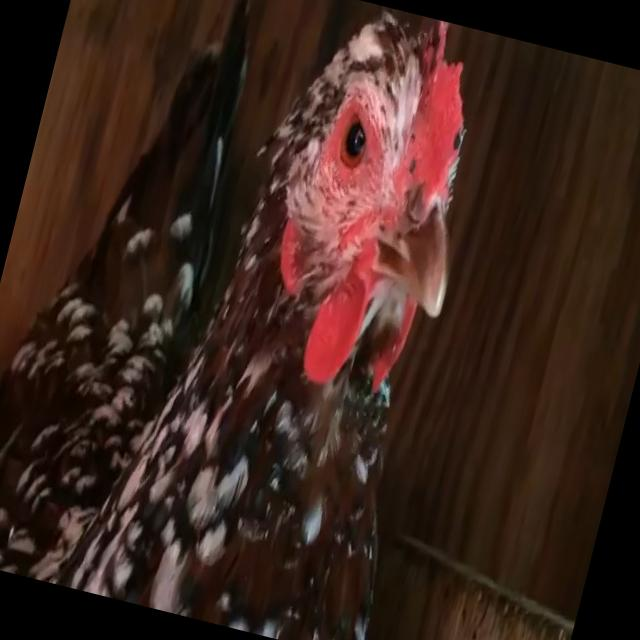menacing: (0, 0, 522, 640)
